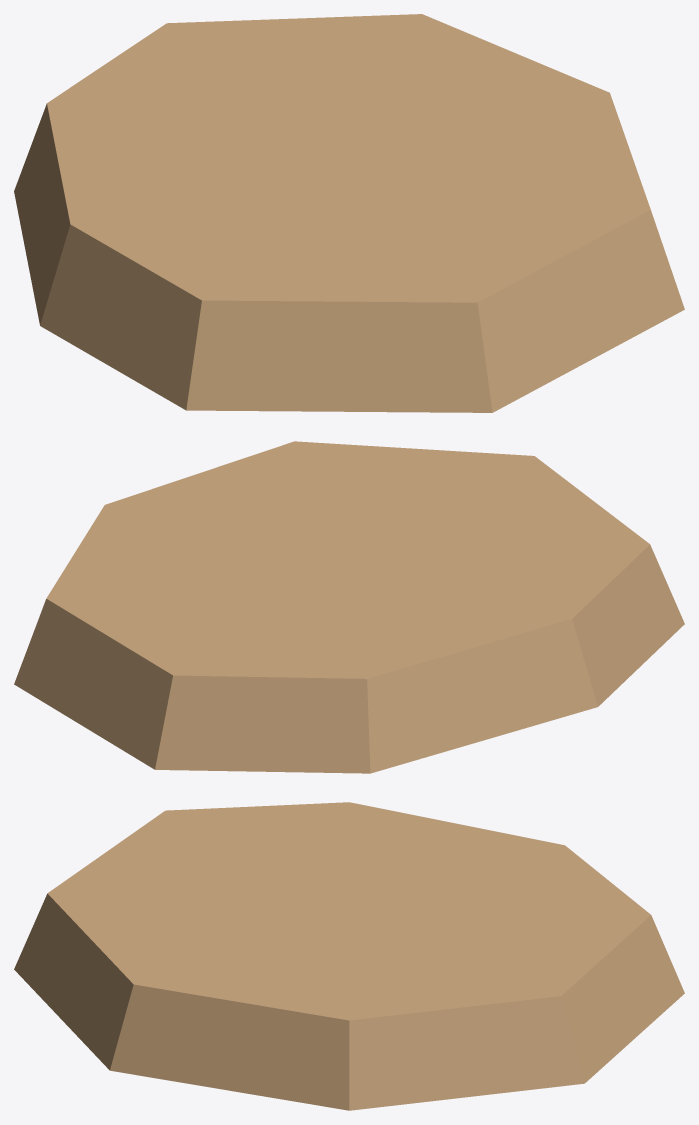
The model's file is Rock_Flat_s_04.fbx.
3 renders of one model, top to bottom at view 1: azimuth 30°, elevation 25°; view 2: azimuth 150°, elevation 25°; view 3: azimuth 270°, elevation 25°, orthographic. The views are drawn at different scales.
Visible parts, largest first — view 1: Rock_Flat_s_04; view 2: Rock_Flat_s_04; view 3: Rock_Flat_s_04.
Part boxes in pixels (x1,y1,x2,y2): Rock_Flat_s_04: [14, 14, 684, 412]; Rock_Flat_s_04: [14, 441, 684, 773]; Rock_Flat_s_04: [14, 802, 684, 1110].
Bounding box in the file's own units: 76.07 × 11.43 × 88.91.
